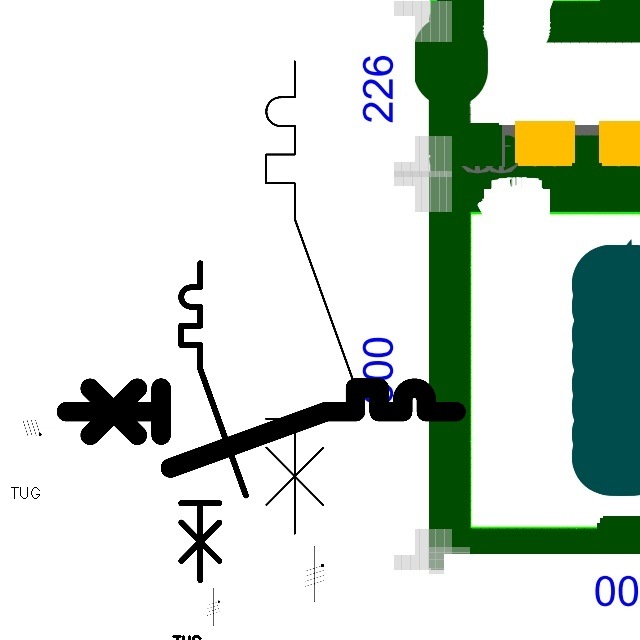interruptor_termomagnetico: (254, 49, 375, 546), (56, 378, 465, 478), (173, 255, 254, 588)
